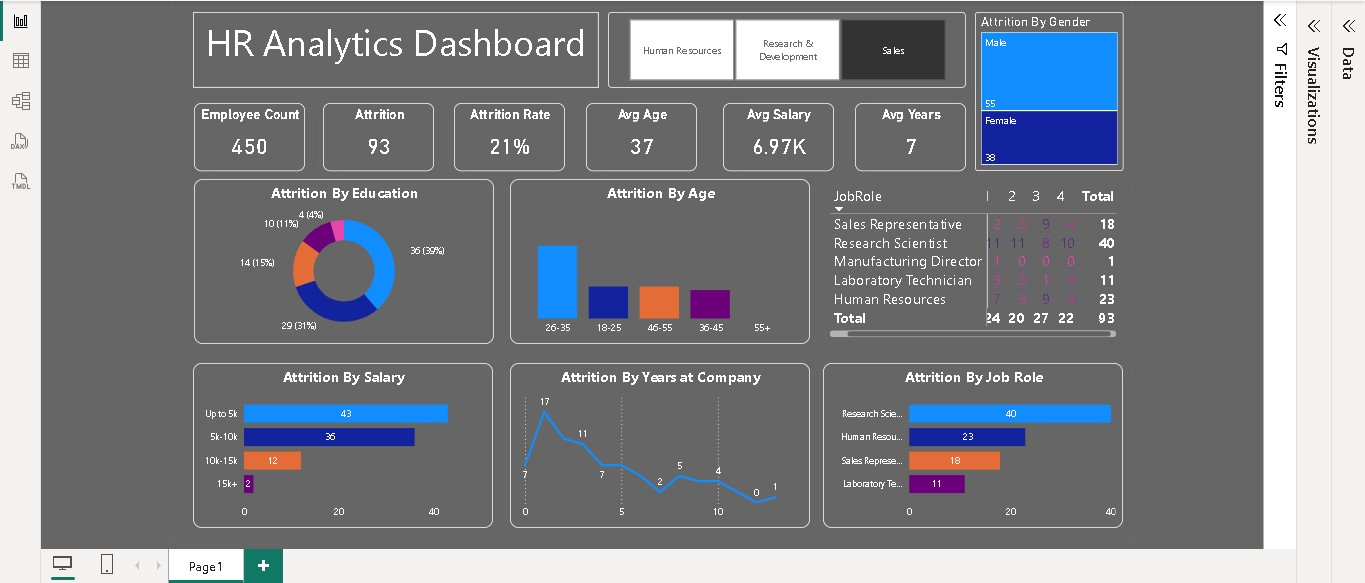

The dashboard page shown, as its layout file describes it:
{"tool":"powerbi","page":{"name":"Page 1","canvas":[1280,720],"ordinal":0},"visuals":[{"type":"card","title":"Employee Count","fields":{"Values":["CountNonNull(HR_Data.EmpID)"]},"box":[29.3,136,148,90.7],"z":0},{"type":"card","title":"Avg Years","fields":{"Values":["Avg(HR_Data.YearsAtCompany)"]},"box":[910.7,136,148,90.7],"z":1000},{"type":"card","title":"Avg Salary","fields":{"Values":["Avg(HR_Data.MonthlyIncome)"]},"box":[734.7,136,148,90.7],"z":2000},{"type":"card","title":"Avg Age","fields":{"Values":["Avg(HR_Data.Age)"]},"box":[552,136,148,90.7],"z":3000},{"type":"card","title":"Attrition Rate","fields":{"Values":["HR_Data.Attrition_Rate"]},"box":[376,136,148,90.7],"z":4000},{"type":"card","title":"Attrition","fields":{"Values":["Sum(HR_Data.Attrition_Count)"]},"box":[201.3,136,148,90.7],"z":5000},{"type":"textbox","box":[28,14.7,541.3,101.3],"z":6000},{"type":"slicer","title":"Departments","fields":{"Values":["Departments.Department"]},"box":[581.2,15.1,477.1,100.8],"z":7000},{"type":"treemap","title":"Attrition By Gender","fields":{"Group":["HR_Data.Gender"],"Values":["Sum(HR_Data.Attrition_Count)"]},"box":[1070,15.1,198.2,211.7],"z":8000},{"type":"donutChart","title":"Attrition By Education","fields":{"Category":["Education.Education"],"Y":["Sum(HR_Data.Attrition_Count)"]},"box":[29.3,237.3,400,220],"z":9000},{"type":"barChart","title":"Attrition By Salary","fields":{"Category":["HR_Data.SalarySlab"],"Y":["Sum(HR_Data.Attrition_Count)"],"Series":["HR_Data.SalarySlab"]},"box":[28,482.7,400,220],"z":10000},{"type":"pivotTable","title":"Attrition By Education","fields":{"Values":["Sum(HR_Data.Attrition_Count)"],"Rows":["Jobs.JobRole"],"Columns":["HR_Data.JobSatisfaction"]},"box":[868,237.3,400,220],"z":11000},{"type":"lineChart","title":"Attrition By Years at Company","fields":{"Y":["Sum(HR_Data.Attrition_Count)"],"Category":["HR_Data.YearsAtCompany"]},"box":[450.7,482.7,400,220],"z":12000},{"type":"lineStackedColumnComboChart","title":"Attrition By Age","fields":{"Y":["Sum(HR_Data.Attrition_Count)"],"Category":["HR_Data.AgeGroup"],"Series":["HR_Data.AgeGroup"]},"box":[450.7,237.3,400,220],"z":13000},{"type":"barChart","title":"Attrition By Job Role","fields":{"Y":["Sum(HR_Data.Attrition_Count)"],"Category":["Jobs.JobRole"],"Series":["Jobs.JobRole"]},"box":[868,482.7,400,220],"z":14000}]}

Visuals, with their boxes in screenshot pixels (x1, y1, x2, y2):
"Employee Count" card: x1=303, y1=108, x2=417, y2=178
"Avg Years" card: x1=982, y1=108, x2=1096, y2=178
"Avg Salary" card: x1=847, y1=108, x2=961, y2=178
"Avg Age" card: x1=706, y1=108, x2=820, y2=178
"Attrition Rate" card: x1=570, y1=108, x2=684, y2=178
"Attrition" card: x1=436, y1=108, x2=550, y2=178
textbox: x1=302, y1=15, x2=719, y2=93
"Departments" slicer: x1=728, y1=15, x2=1096, y2=93
"Attrition By Gender" treemap: x1=1105, y1=15, x2=1258, y2=178
"Attrition By Education" donutChart: x1=303, y1=186, x2=611, y2=356
"Attrition By Salary" barChart: x1=302, y1=375, x2=610, y2=545
"Attrition By Education" pivotTable: x1=949, y1=186, x2=1257, y2=356
"Attrition By Years at Company" lineChart: x1=628, y1=375, x2=936, y2=545
"Attrition By Age" lineStackedColumnComboChart: x1=628, y1=186, x2=936, y2=356
"Attrition By Job Role" barChart: x1=949, y1=375, x2=1257, y2=545
